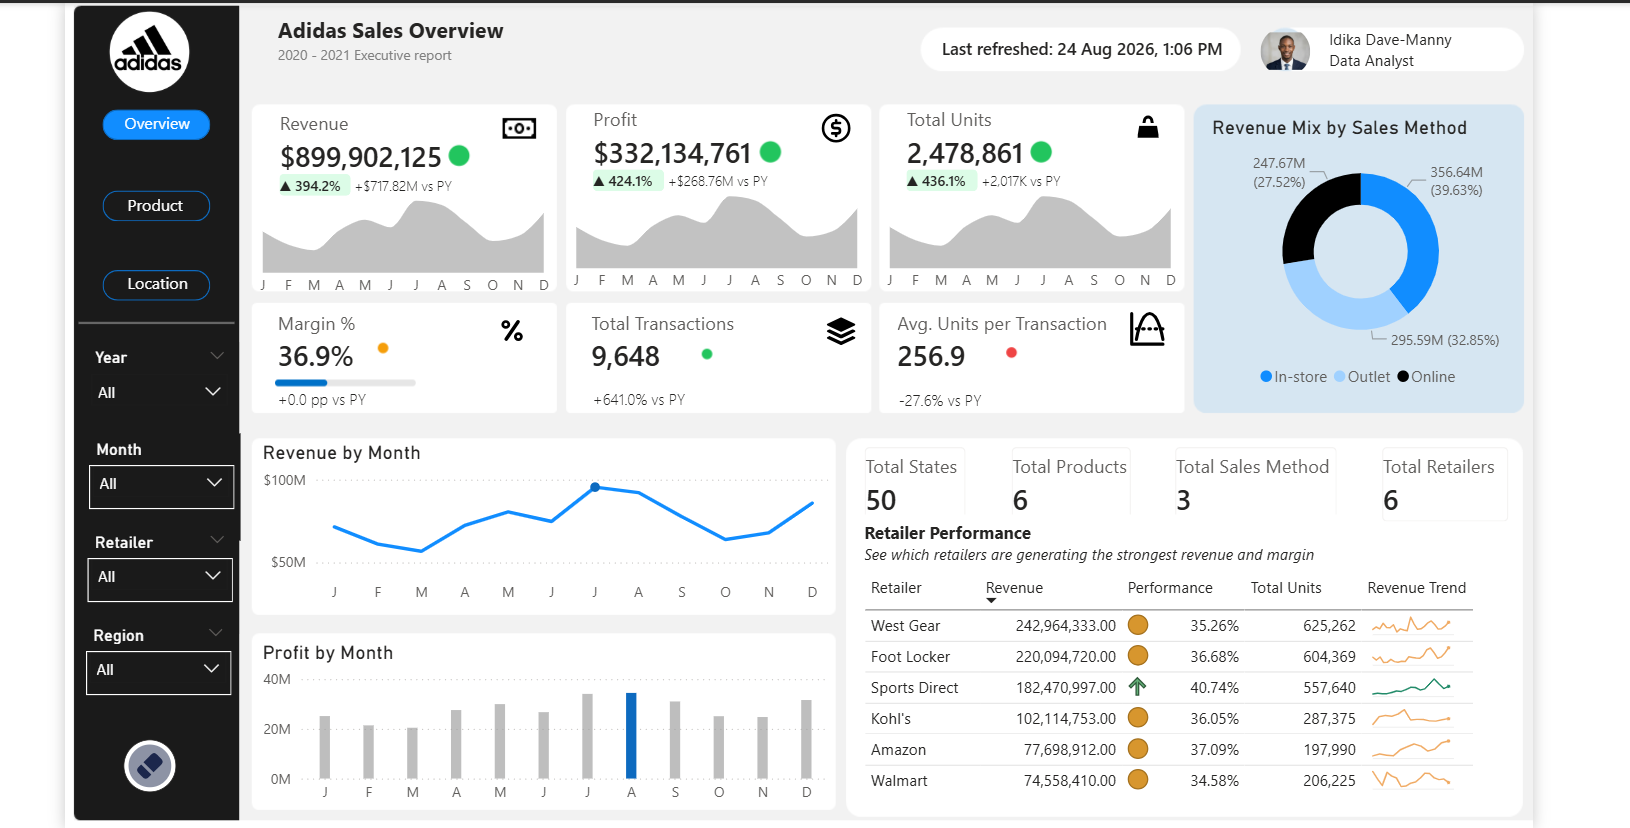

What the dashboard file says about the page in this screenshot:
{"tool":"powerbi","page":{"name":"Sales Overview","canvas":[1280,720],"ordinal":1},"visuals":[{"type":"image","box":[1042.1,21.2,43.4,42.4],"z":0,"group":"g23"},{"type":"group","id":"g1","title":"Group 4","box":[704.4,75.6,273.3,184.4],"z":0,"group":"g10"},{"type":"group","id":"g2","title":"Group 1","box":[704.4,75.6,273.3,184.4],"z":0,"group":"g1"},{"type":"cardVisual","title":"Revenue ","fields":{"Data":["Sales.Total Units"]},"box":[704.4,75.6,203,83.5],"z":0,"group":"g2"},{"type":"group","id":"g3","title":"Group 1","box":[431.1,76.1,273.2,184.4],"z":0,"group":"g8"},{"type":"cardVisual","title":"Revenue ","fields":{"Data":["Sales.Profit"]},"box":[431.1,76.1,203,83.5],"z":0,"group":"g3"},{"type":"group","id":"g4","title":"Group 2","box":[158,80.1,273.2,184.4],"z":0,"group":"g9"},{"type":"group","id":"g5","title":"Group 1","box":[158,80.1,273.2,184.4],"z":0,"group":"g4"},{"type":"cardVisual","title":"Revenue ","fields":{"Data":["Sales.Revenue"]},"box":[158,80.1,203,83.5],"z":0,"group":"g5"},{"type":"textbox","box":[38.2,228.6,82.3,31.4],"z":0},{"type":"cardVisual","fields":{"Data":["Sales.Total Transactions"]},"box":[454,264,158.3,62.5],"z":0,"group":"g11"},{"type":"cardVisual","fields":{"Data":["Sales.Avg. Units per Transaction"]},"box":[721,264,197.5,62.5],"z":0,"group":"g12"},{"type":"group","id":"g6","title":"Group 9","box":[180.8,264.1,177.7,96.2],"z":0,"group":"g14"},{"type":"group","id":"g7","title":"Group 8","box":[180.8,264.1,177.7,96.2],"z":0,"group":"g6"},{"type":"cardVisual","fields":{"Data":["Sales.Margin %"]},"box":[180.8,264.1,126.9,62.7],"z":0,"group":"g7"},{"type":"slicer","title":"Year","fields":{"Values":["Date.Year"]},"box":[12.8,294.9,138.5,93.6],"z":0,"group":"g18"},{"type":"slicer","title":"Year","fields":{"Values":["Date.Month"]},"box":[14.1,375.6,138.5,93.6],"z":0,"group":"g20"},{"type":"slicer","title":"Year","fields":{"Values":["Sales.Retailer"]},"box":[12.8,456.4,138.5,93.6],"z":0,"group":"g21"},{"type":"slicer","title":"Year","fields":{"Values":["Location.Region"]},"box":[11.5,537.2,138.5,93.6],"z":0,"group":"g22"},{"type":"textbox","box":[1096.5,17.1,153.5,46.5],"z":1000,"group":"g23"},{"type":"group","id":"g8","title":"Group 3","box":[431.1,76.1,273.2,184.4],"z":1000,"group":"g13"},{"type":"image","box":[649.1,95.4,44.2,27.3],"z":1000,"group":"g8"},{"type":"image","box":[921.9,97.3,44.3,20.7],"z":1000,"group":"g1"},{"type":"htmlContent443BE3AD55E043BF878BED274D3A6855","fields":{"content":["Sales.Total Units Pulsing indicator"]},"box":[831.2,112.3,37.1,33.6],"z":1000,"group":"g10"},{"type":"cardVisual","fields":{"Data":["Sales.Total Units Growth Badge"]},"box":[727.8,140.1,72.3,29],"z":1000,"group":"g2"},{"type":"cardVisual","fields":{"Data":["Sales.Profit Growth Badge"]},"box":[454.5,140.6,72.3,29],"z":1000,"group":"g3"},{"type":"cardVisual","fields":{"Data":["Sales.Revenue Growth Badge"]},"box":[181.4,144.6,72.3,29],"z":1000,"group":"g5"},{"type":"textbox","box":[38,160.4,82.4,31.6],"z":1000},{"type":"image","box":[369.5,272,42.1,28.1],"z":1000,"group":"g14"},{"type":"htmlContent443BE3AD55E043BF878BED274D3A6855","fields":{"content":["Sales.Margin Pulsing Indicator"]},"box":[258.4,283.3,38.4,33.4],"z":1000,"group":"g6"},{"type":"htmlContent443BE3AD55E043BF878BED274D3A6855","fields":{"content":["Sales.Avg Units Pulsing Indicator"]},"box":[806,287.3,38.3,33.3],"z":1000,"group":"g12"},{"type":"htmlContent443BE3AD55E043BF878BED274D3A6855","fields":{"content":["Sales.Transactions Pulsing Indicator"]},"box":[541.4,288.6,35.2,33.2],"z":1000,"group":"g11"},{"type":"htmlContent443BE3AD55E043BF878BED274D3A6855","fields":{"content":["Sales.Margin Progress SVG"]},"box":[183.1,317.1,175.3,33.4],"z":1000,"group":"g7"},{"type":"shape","box":[19.2,321.8,126.9,38.5],"z":1000,"group":"g18"},{"type":"shape","box":[20.5,402.5,126.9,38.5],"z":1000,"group":"g20"},{"type":"shape","box":[19.2,483.3,126.9,38.5],"z":1000,"group":"g21"},{"type":"shape","box":[17.9,564.1,126.9,38.5],"z":1000,"group":"g22"},{"type":"image","box":[369.7,93,51.9,33.8],"z":1002,"group":"g4"},{"type":"group","id":"g9","title":"Group 5","box":[158,80.1,273.2,184.4],"z":2000},{"type":"cardVisual","fields":{"Data":["Sales.Total Units Growth Label"]},"box":[793.8,140,116.1,28.9],"z":2000,"group":"g2"},{"type":"cardVisual","fields":{"Data":["Sales.Profit Growth Label"]},"box":[520.5,140.5,116.1,28.9],"z":2000,"group":"g3"},{"type":"cardVisual","fields":{"Data":["Sales.Revenue Growth Label"]},"box":[247.2,144.6,113.9,29],"z":2000,"group":"g5"},{"type":"cardVisual","fields":{"Data":["Sales.Margin Change Label"]},"box":[180.8,326.8,126.9,33.4],"z":2000,"group":"g7"},{"type":"cardVisual","fields":{"Data":["Sales.Transaction Change Label"]},"box":[454.8,327.3,126.7,33.3],"z":2000,"group":"g11"},{"type":"cardVisual","fields":{"Data":["Sales.Average Units per Transaction Change Label"]},"box":[721.7,327.4,126.7,33.3],"z":2000,"group":"g12"},{"type":"htmlContent443BE3AD55E043BF878BED274D3A6855","fields":{"content":["Sales.Revenue Pulsing indicator"]},"box":[327.6,119.8,30.4,27.7],"z":2001,"group":"g9"},{"type":"htmlContent443BE3AD55E043BF878BED274D3A6855","fields":{"content":["Sales.Profit Pulsing indicator"]},"box":[594.6,112.4,38.6,34.3],"z":2003,"group":"g13"},{"type":"group","id":"g10","title":"Group 6","box":[704.4,75.6,273.3,184.4],"z":3000},{"type":"areaChart","fields":{"Y":["Sales.Revenue"],"Category":["Date.Month Axis Label"]},"box":[704.8,149.2,272.7,110.8],"z":3000,"group":"g2"},{"type":"areaChart","fields":{"Y":["Sales.Revenue"],"Category":["Date.Month Axis Label"]},"box":[431.5,149.7,272.7,110.8],"z":3000,"group":"g3"},{"type":"areaChart","fields":{"Y":["Sales.Revenue"],"Category":["Date.Month Axis Label"]},"box":[158.4,153.7,272.7,110.8],"z":3000,"group":"g5"},{"type":"group","id":"g11","title":"Group 10","box":[454,264,158.3,96.6],"z":3001,"group":"g15"},{"type":"group","id":"g12","title":"Group 10","box":[721,264,197.5,96.8],"z":3002,"group":"g16"},{"type":"image","box":[648.5,265.6,56.6,41.4],"z":3006,"group":"g15"},{"type":"image","box":[924.3,267.6,40.4,32.3],"z":3008,"group":"g16"},{"type":"group","id":"g13","title":"Group 7","box":[431.1,76.1,273.2,184.4],"z":4000},{"type":"donutChart","title":"Revenue Mix by Sales Method","fields":{"Y":["Sales.Revenue"],"Category":["Sales.Sales Method"]},"box":[995.5,97.7,268.2,246.6],"z":5000},{"type":"group","id":"g14","title":"Group 11","box":[180.8,264.1,230.8,96.2],"z":6000},{"type":"group","id":"g15","title":"Group 12","box":[454,264,251,96.6],"z":7000},{"type":"group","id":"g16","title":"Group 13","box":[721,264,243.7,96.8],"z":8000},{"type":"columnChart","title":"Revenue by Month ","fields":{"Y":["Sales.Revenue"],"Category":["Date.Month Axis Label"]},"box":[167.9,382.1,503.8,150],"z":9000},{"type":"columnChart","title":"Profit by Month ","fields":{"Y":["Sales.Profit"],"Category":["Date.Month Axis Label"]},"box":[167.9,555.1,503.8,150],"z":10000},{"type":"tableEx","fields":{"Values":["Sales.Retailer","Sales.Revenue","Sales.Margin %","Sales.Total Units","Sales.Revenue Trend SVG"]},"box":[692.1,492.1,571.1,213.2],"z":11000},{"type":"cardVisual","fields":{"Data":["Count(Location.State)"]},"box":[692.3,382.1,98.7,75.6],"z":12000},{"type":"cardVisual","fields":{"Data":["Count(Product.Product)"]},"box":[819.7,382.1,114.1,75.6],"z":13000},{"type":"cardVisual","fields":{"Data":["Count(Sales.Sales Method)"]},"box":[962.4,382.1,151.3,75.6],"z":14000},{"type":"cardVisual","fields":{"Data":["Count(Sales.Retailer)"]},"box":[1142.3,382.1,120.5,75.6],"z":15000},{"type":"textbox","box":[692.1,446.1,436.8,56.6],"z":16000},{"type":"image","box":[0,5.1,147.4,74.4],"z":17000},{"type":"shape","box":[32.2,92.9,94,26.8],"z":17000,"group":"g17"},{"type":"textbox","box":[180.8,5.1,273.1,61.5],"z":18000},{"type":"group","id":"g17","title":"Group 14","box":[32.2,88.5,94,31.1],"z":19000},{"type":"textbox","box":[38.2,88.5,82,31.1],"z":20000,"group":"g17"},{"type":"shape","box":[32.1,162.8,94.1,26.9],"z":20000},{"type":"shape","box":[32.2,233.3,94,26.8],"z":21000},{"type":"shape","box":[12,258.7,136,40],"z":22000},{"type":"group","id":"g18","title":"Group 18","box":[12.8,294.9,138.5,93.6],"z":22503,"group":"g19"},{"type":"group","id":"g19","title":"Group 17","box":[12.8,294.9,138.5,93.6],"z":23000},{"type":"group","id":"g20","title":"Group 18","box":[14.1,375.6,138.5,93.6],"z":24000},{"type":"group","id":"g21","title":"Group 18","box":[12.8,456.4,138.5,93.6],"z":25000},{"type":"group","id":"g22","title":"Group 18","box":[11.5,537.2,138.5,93.6],"z":26000},{"type":"group","id":"g23","title":"Group 19","box":[1042.1,17.1,207.9,46.5],"z":27000},{"type":"cardVisual","fields":{"Data":["Sales.Last Refreshed Label"]},"box":[752.8,16.1,267.1,45.5],"z":28000}]}

Visuals, with their boxes on the page's 1280x720 design canvas (x1, y1, x2, y2). These are canvas units, not pixel positions in the 1630x828 screenshot, which may show the page scaled, cropped or inside an application window:
image: <bbox>1042, 21, 1086, 64</bbox>
"Group 4" group: <bbox>704, 76, 978, 260</bbox>
"Group 1" group: <bbox>704, 76, 978, 260</bbox>
"Revenue " cardVisual: <bbox>704, 76, 907, 159</bbox>
"Group 1" group: <bbox>431, 76, 704, 260</bbox>
"Revenue " cardVisual: <bbox>431, 76, 634, 160</bbox>
"Group 2" group: <bbox>158, 80, 431, 264</bbox>
"Group 1" group: <bbox>158, 80, 431, 264</bbox>
"Revenue " cardVisual: <bbox>158, 80, 361, 164</bbox>
textbox: <bbox>38, 229, 120, 260</bbox>
cardVisual - Sales.Total Transactions: <bbox>454, 264, 612, 326</bbox>
cardVisual - Sales.Avg. Units per Transaction: <bbox>721, 264, 918, 326</bbox>
"Group 9" group: <bbox>181, 264, 358, 360</bbox>
"Group 8" group: <bbox>181, 264, 358, 360</bbox>
cardVisual - Sales.Margin %: <bbox>181, 264, 308, 327</bbox>
"Year" slicer: <bbox>13, 295, 151, 388</bbox>
"Year" slicer: <bbox>14, 376, 153, 469</bbox>
"Year" slicer: <bbox>13, 456, 151, 550</bbox>
"Year" slicer: <bbox>12, 537, 150, 631</bbox>
textbox: <bbox>1096, 17, 1250, 64</bbox>
"Group 3" group: <bbox>431, 76, 704, 260</bbox>
image: <bbox>649, 95, 693, 123</bbox>
image: <bbox>922, 97, 966, 118</bbox>
htmlContent443BE3AD55E043BF878BED274D3A6855 - Sales.Total Units Pulsing indicator: <bbox>831, 112, 868, 146</bbox>
cardVisual - Sales.Total Units Growth Badge: <bbox>728, 140, 800, 169</bbox>
cardVisual - Sales.Profit Growth Badge: <bbox>454, 141, 527, 170</bbox>
cardVisual - Sales.Revenue Growth Badge: <bbox>181, 145, 254, 174</bbox>
textbox: <bbox>38, 160, 120, 192</bbox>
image: <bbox>370, 272, 412, 300</bbox>
htmlContent443BE3AD55E043BF878BED274D3A6855 - Sales.Margin Pulsing Indicator: <bbox>258, 283, 297, 317</bbox>
htmlContent443BE3AD55E043BF878BED274D3A6855 - Sales.Avg Units Pulsing Indicator: <bbox>806, 287, 844, 321</bbox>
htmlContent443BE3AD55E043BF878BED274D3A6855 - Sales.Transactions Pulsing Indicator: <bbox>541, 289, 577, 322</bbox>
htmlContent443BE3AD55E043BF878BED274D3A6855 - Sales.Margin Progress SVG: <bbox>183, 317, 358, 350</bbox>
shape: <bbox>19, 322, 146, 360</bbox>
shape: <bbox>20, 402, 147, 441</bbox>
shape: <bbox>19, 483, 146, 522</bbox>
shape: <bbox>18, 564, 145, 603</bbox>
image: <bbox>370, 93, 422, 127</bbox>
"Group 5" group: <bbox>158, 80, 431, 264</bbox>
cardVisual - Sales.Total Units Growth Label: <bbox>794, 140, 910, 169</bbox>
cardVisual - Sales.Profit Growth Label: <bbox>520, 140, 637, 169</bbox>
cardVisual - Sales.Revenue Growth Label: <bbox>247, 145, 361, 174</bbox>
cardVisual - Sales.Margin Change Label: <bbox>181, 327, 308, 360</bbox>
cardVisual - Sales.Transaction Change Label: <bbox>455, 327, 582, 361</bbox>
cardVisual - Sales.Average Units per Transaction Change Label: <bbox>722, 327, 848, 361</bbox>
htmlContent443BE3AD55E043BF878BED274D3A6855 - Sales.Revenue Pulsing indicator: <bbox>328, 120, 358, 148</bbox>
htmlContent443BE3AD55E043BF878BED274D3A6855 - Sales.Profit Pulsing indicator: <bbox>595, 112, 633, 147</bbox>
"Group 6" group: <bbox>704, 76, 978, 260</bbox>
areaChart - Sales.Revenue x Date.Month Axis Label: <bbox>705, 149, 978, 260</bbox>
areaChart - Sales.Revenue x Date.Month Axis Label: <bbox>432, 150, 704, 260</bbox>
areaChart - Sales.Revenue x Date.Month Axis Label: <bbox>158, 154, 431, 264</bbox>
"Group 10" group: <bbox>454, 264, 612, 361</bbox>
"Group 10" group: <bbox>721, 264, 918, 361</bbox>
image: <bbox>648, 266, 705, 307</bbox>
image: <bbox>924, 268, 965, 300</bbox>
"Group 7" group: <bbox>431, 76, 704, 260</bbox>
"Revenue Mix by Sales Method" donutChart: <bbox>996, 98, 1264, 344</bbox>
"Group 11" group: <bbox>181, 264, 412, 360</bbox>
"Group 12" group: <bbox>454, 264, 705, 361</bbox>
"Group 13" group: <bbox>721, 264, 965, 361</bbox>
"Revenue by Month " columnChart: <bbox>168, 382, 672, 532</bbox>
"Profit by Month " columnChart: <bbox>168, 555, 672, 705</bbox>
tableEx - Sales.Retailer x Sales.Revenue: <bbox>692, 492, 1263, 705</bbox>
cardVisual - Count(Location.State): <bbox>692, 382, 791, 458</bbox>
cardVisual - Count(Product.Product): <bbox>820, 382, 934, 458</bbox>
cardVisual - Count(Sales.Sales Method): <bbox>962, 382, 1114, 458</bbox>
cardVisual - Count(Sales.Retailer): <bbox>1142, 382, 1263, 458</bbox>
textbox: <bbox>692, 446, 1129, 503</bbox>
image: <bbox>0, 5, 147, 80</bbox>
shape: <bbox>32, 93, 126, 120</bbox>
textbox: <bbox>181, 5, 454, 67</bbox>
"Group 14" group: <bbox>32, 88, 126, 120</bbox>
textbox: <bbox>38, 88, 120, 120</bbox>
shape: <bbox>32, 163, 126, 190</bbox>
shape: <bbox>32, 233, 126, 260</bbox>
shape: <bbox>12, 259, 148, 299</bbox>
"Group 18" group: <bbox>13, 295, 151, 388</bbox>
"Group 17" group: <bbox>13, 295, 151, 388</bbox>
"Group 18" group: <bbox>14, 376, 153, 469</bbox>
"Group 18" group: <bbox>13, 456, 151, 550</bbox>
"Group 18" group: <bbox>12, 537, 150, 631</bbox>
"Group 19" group: <bbox>1042, 17, 1250, 64</bbox>
cardVisual - Sales.Last Refreshed Label: <bbox>753, 16, 1020, 62</bbox>
